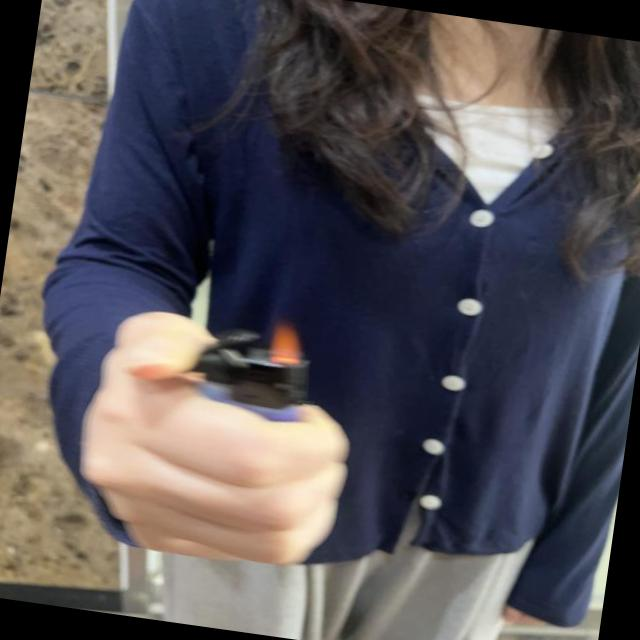Fire: (266, 320, 311, 367)
